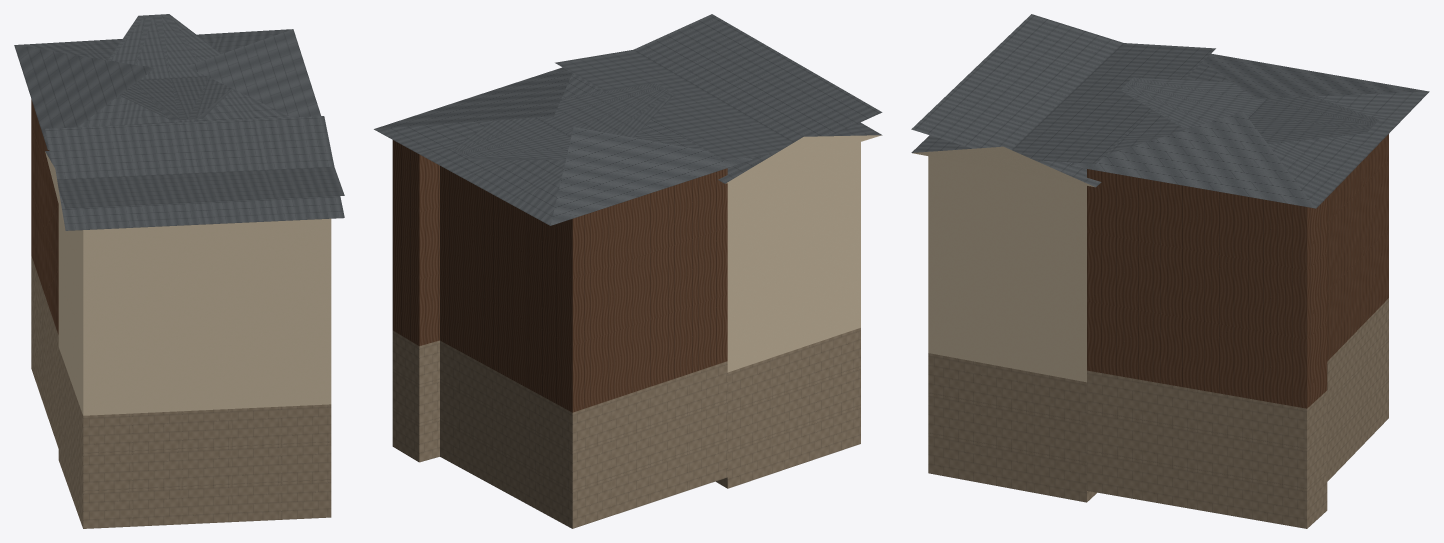
Rendered from bld_c-8_36_388.gltf.
The picture shows the model from 3 angles, left to right: view 1: azimuth 30°, elevation 25°; view 2: azimuth 150°, elevation 25°; view 3: azimuth 270°, elevation 25°; orthographic projection. The views are drawn at different scales.
Parts seen in each view (by area): view 1: bld_c-8_36_388; view 2: bld_c-8_36_388; view 3: bld_c-8_36_388.
Part boxes in pixels (left/top/right/bottom): bld_c-8_36_388: left=14, top=14, right=344, bottom=528; bld_c-8_36_388: left=374, top=14, right=882, bottom=528; bld_c-8_36_388: left=911, top=14, right=1429, bottom=528.
Bounding box in the file's own units: 17.06 × 15.4 × 19.93.
Materials: 5 (5 with a texture image).
